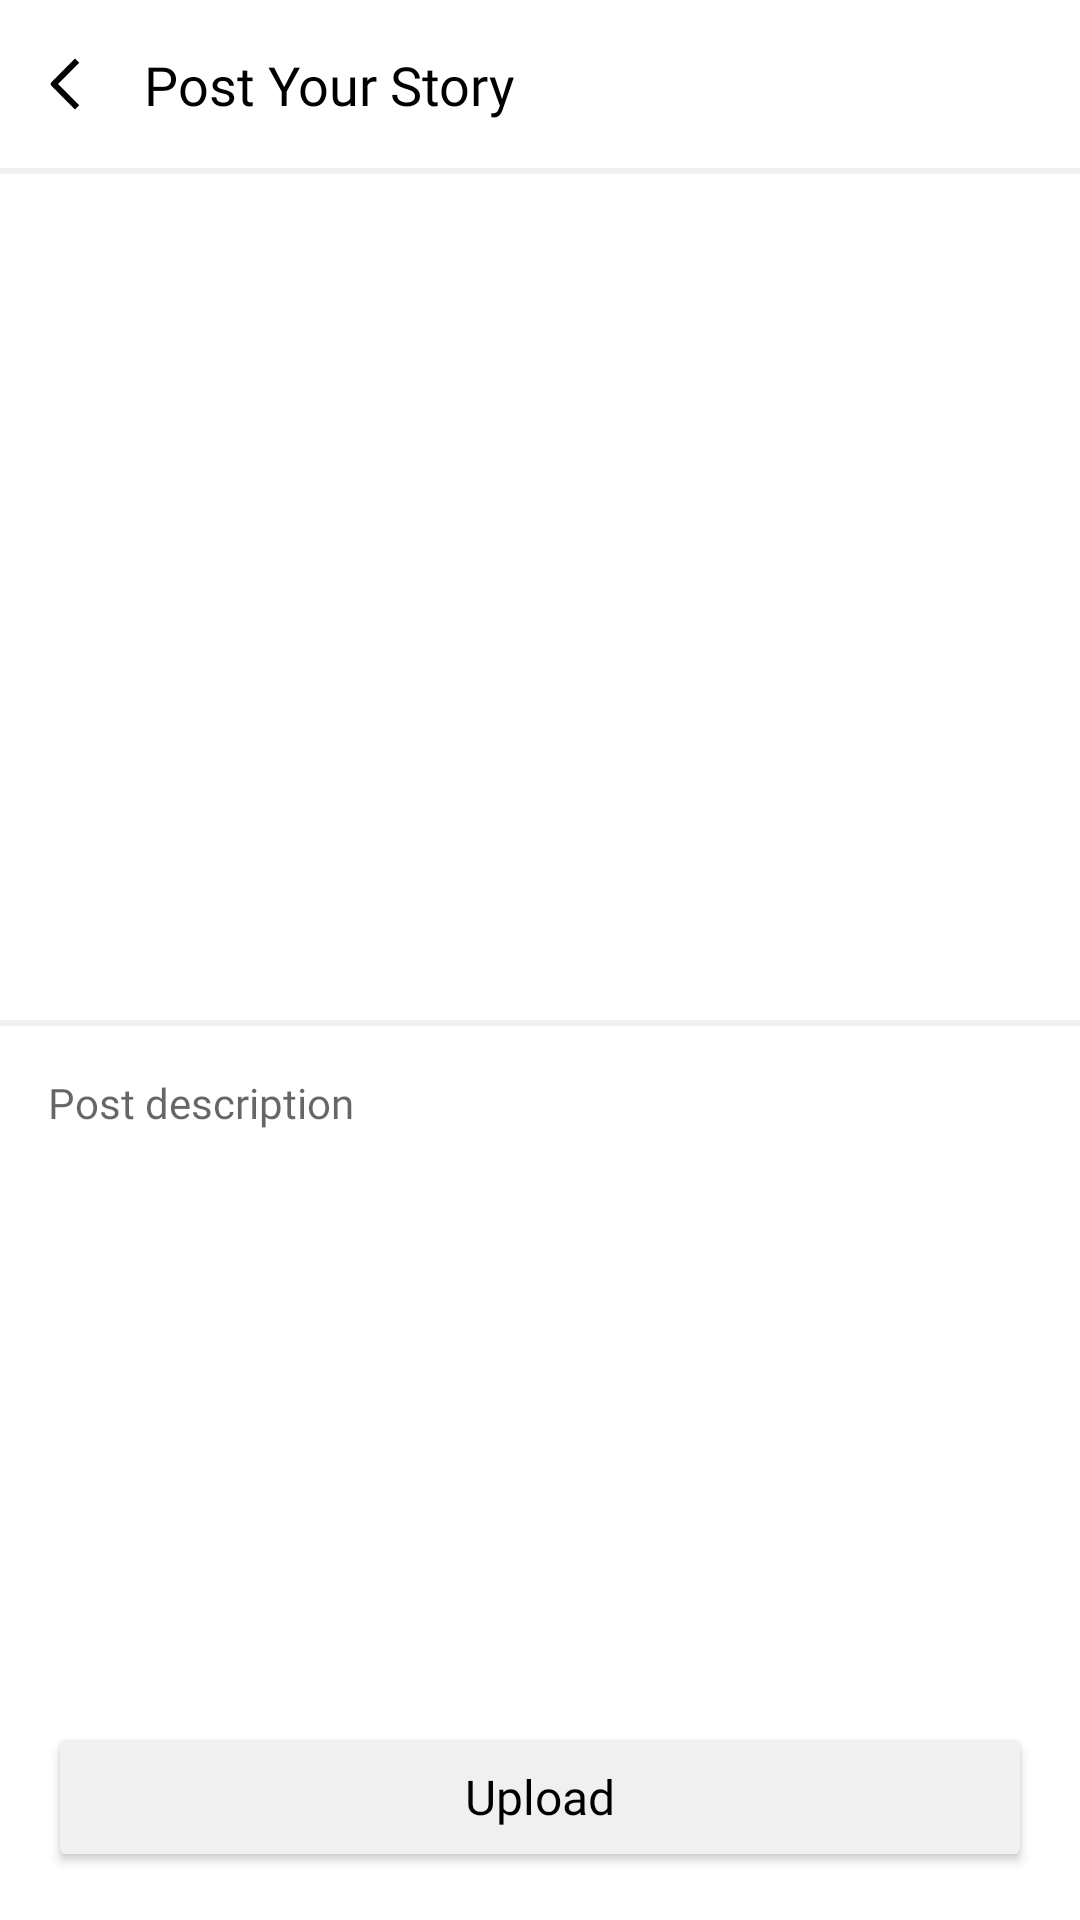

Where to tap for icons on this 1080px x 1920px app screen, as (x=x, y=y):
Back to previous menu: (x=64, y=84)
